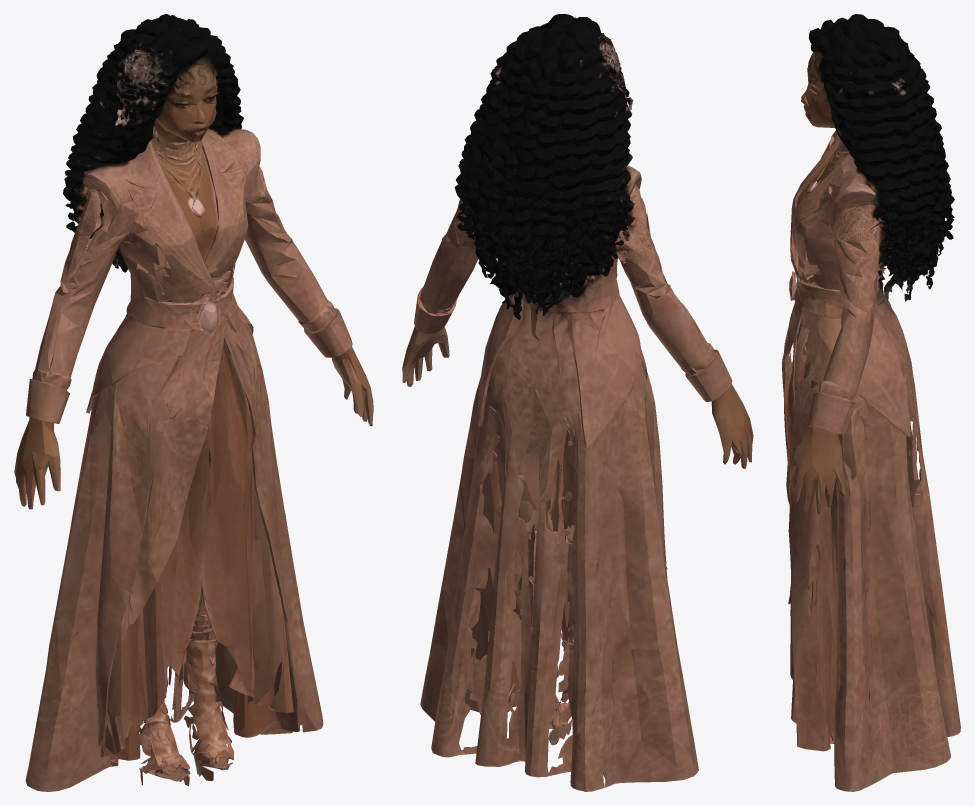
3 renders of one model, left to right at view 1: azimuth 30°, elevation 25°; view 2: azimuth 150°, elevation 25°; view 3: azimuth 270°, elevation 25°, orthographic. The views are drawn at different scales.
Visible parts, largest first — view 1: Mesh_0; view 2: Mesh_0; view 3: Mesh_0.
Boxes of the visible parts, box(x1,y1,x2,y2) form: Mesh_0: box(14, 14, 373, 791); Mesh_0: box(402, 14, 753, 791); Mesh_0: box(782, 14, 960, 791).
Bounding box in the file's own units: 0.9191 × 1.9 × 0.4278.
1 material, 1 textured.
